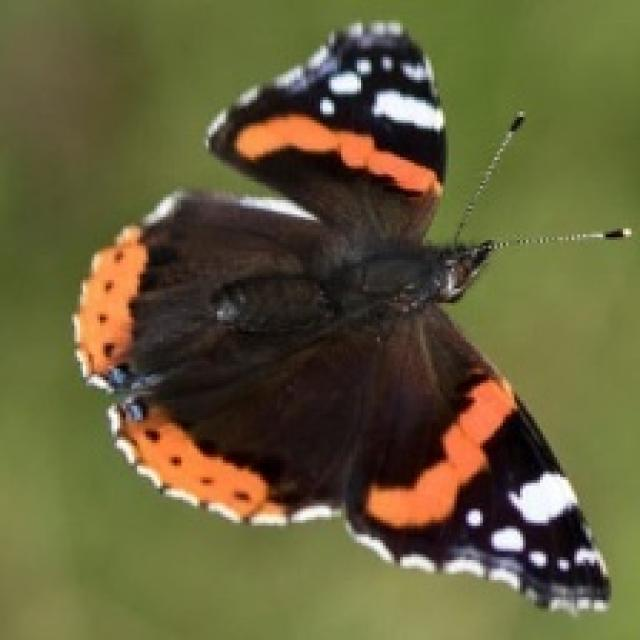butterfly: (69, 17, 634, 617)
